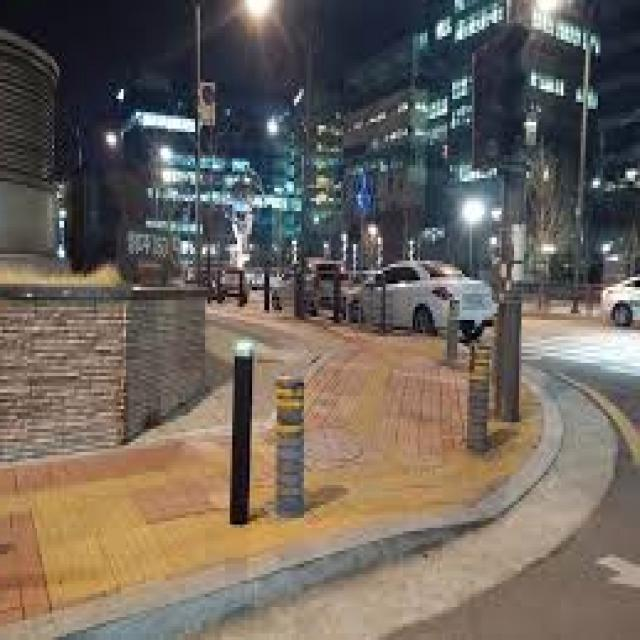bollard: (219, 334, 256, 533), (270, 366, 310, 528), (460, 332, 495, 459), (441, 285, 465, 364)
